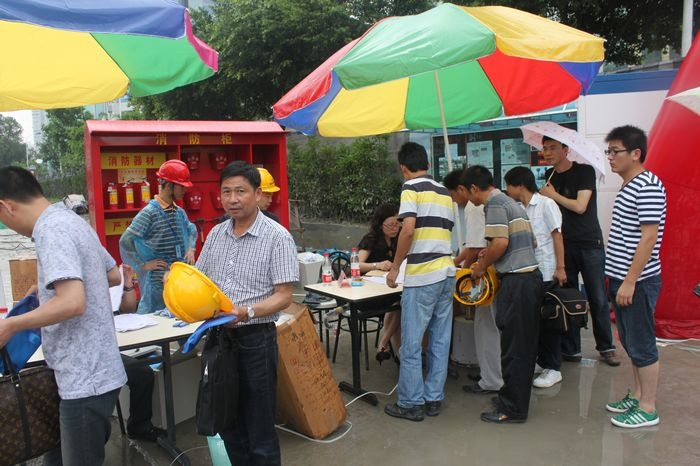none: (1, 164, 48, 238), (219, 162, 261, 223), (605, 124, 648, 176), (398, 142, 431, 180), (503, 166, 537, 201), (467, 163, 494, 204), (539, 132, 568, 166), (444, 168, 469, 205), (374, 205, 400, 237)
red: (156, 159, 194, 201)
yellow: (255, 168, 278, 213)
